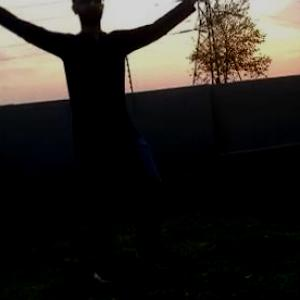takeoff: (1, 0, 202, 251)
